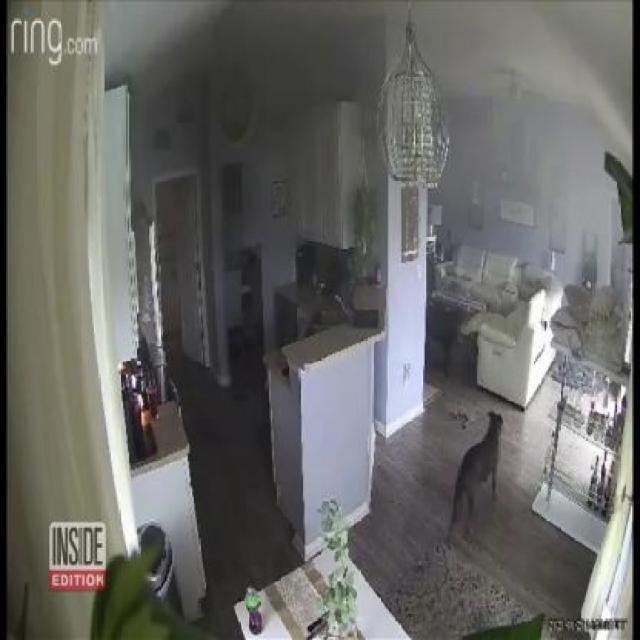smoke: (458, 90, 598, 199), (160, 14, 348, 90)
